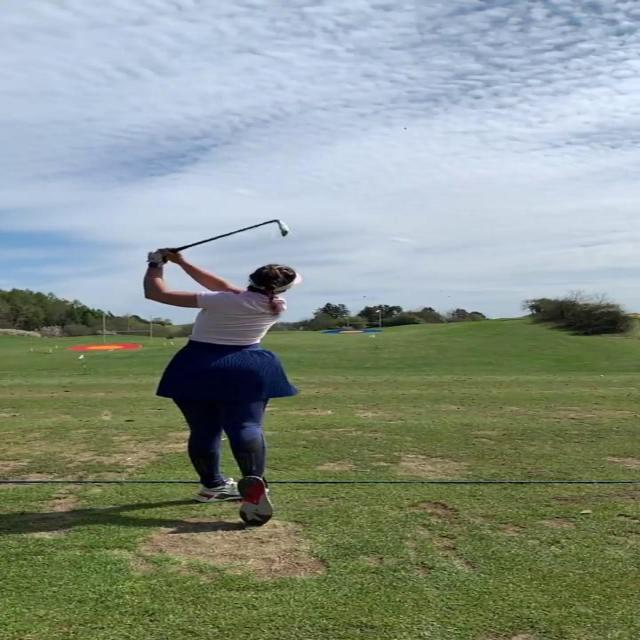golf club-handle: (170, 218, 292, 253)
golf club-head: (275, 219, 289, 238)
